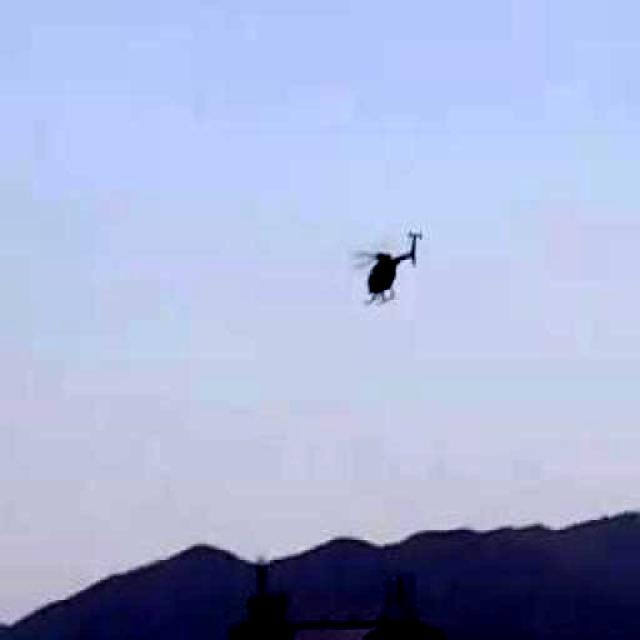drone: (329, 206, 445, 318)
